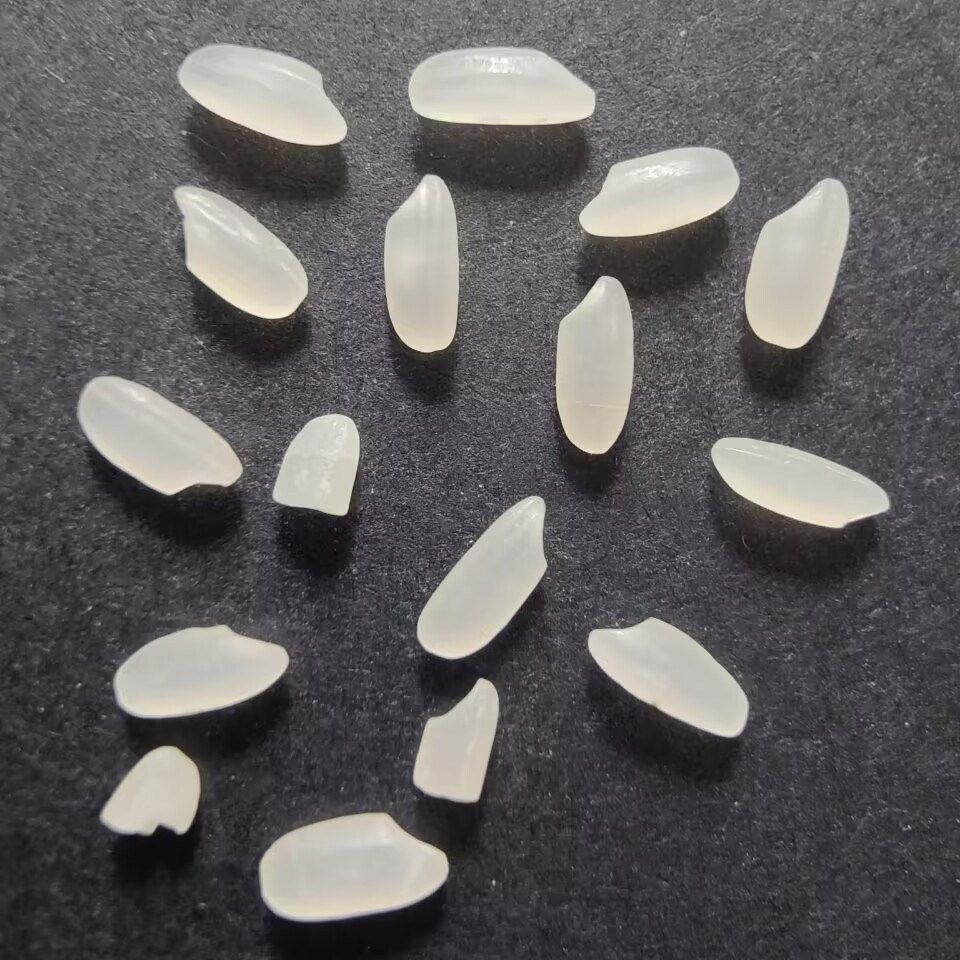broken: (403, 672, 503, 807), (93, 741, 205, 842), (268, 410, 366, 517)
rice: (253, 806, 455, 930), (410, 493, 549, 665), (73, 374, 250, 501), (583, 614, 752, 743), (738, 173, 852, 355), (164, 181, 309, 323), (706, 433, 896, 537), (108, 620, 295, 724), (172, 41, 353, 148), (549, 267, 642, 460), (404, 43, 606, 131), (572, 143, 748, 238), (380, 168, 463, 357)
